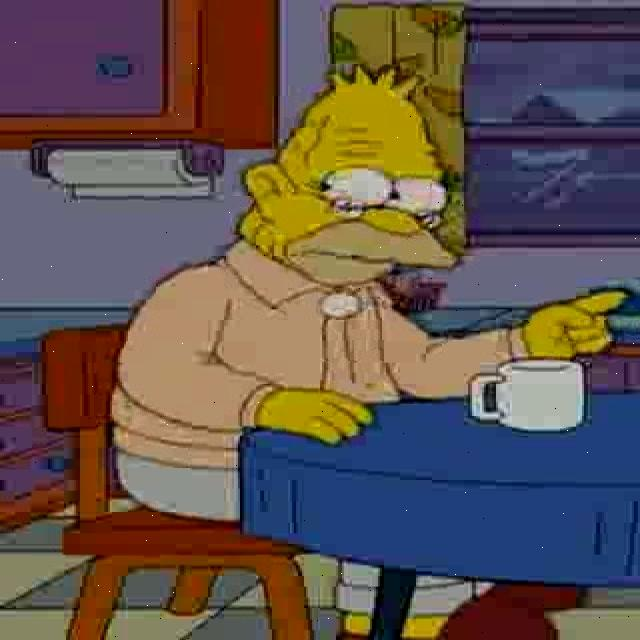Abraham Grampa Simpson: (232, 63, 464, 289)
